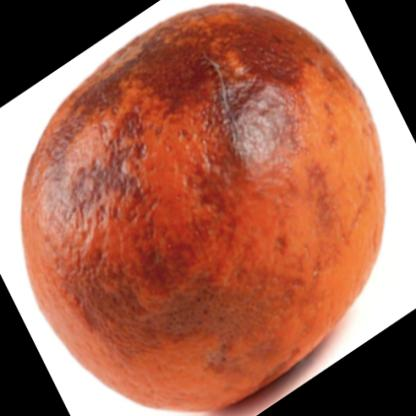rotten: (23, 4, 386, 413)
